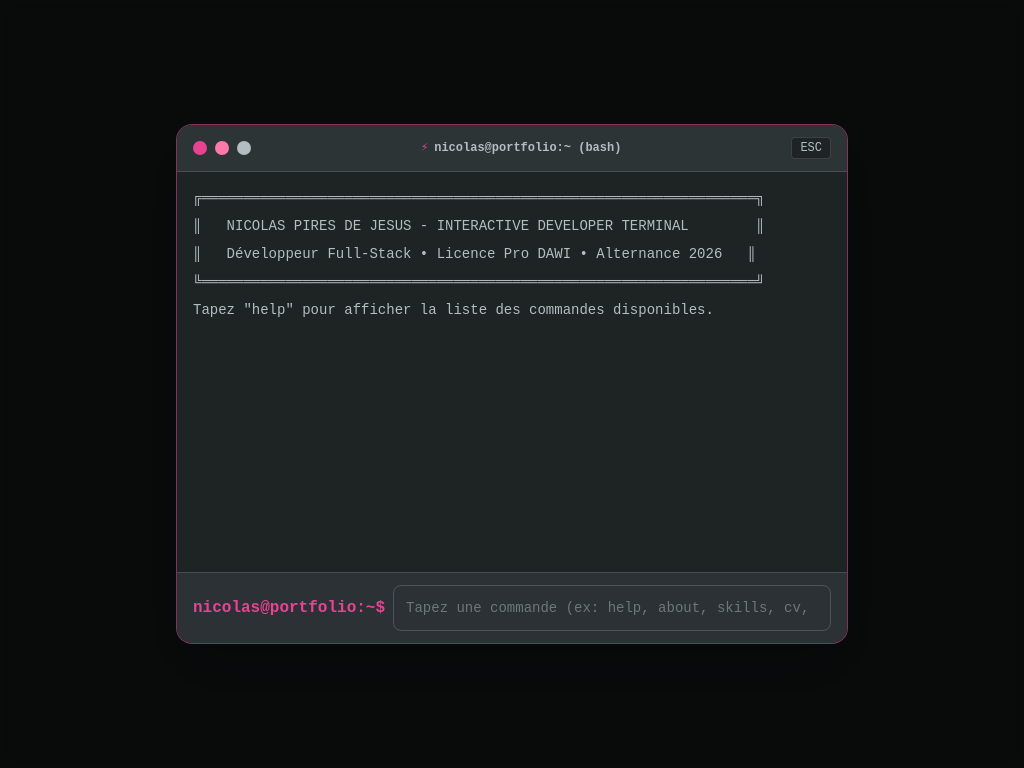
it: DeveloperTerminal executes help command
This screenshot has width=1024, height=768.
Type "help" into the field with placeholder "Tapez une commande (ex: help, about, skills, cv, lang)..." at (612, 608), box [393,585,831,631]
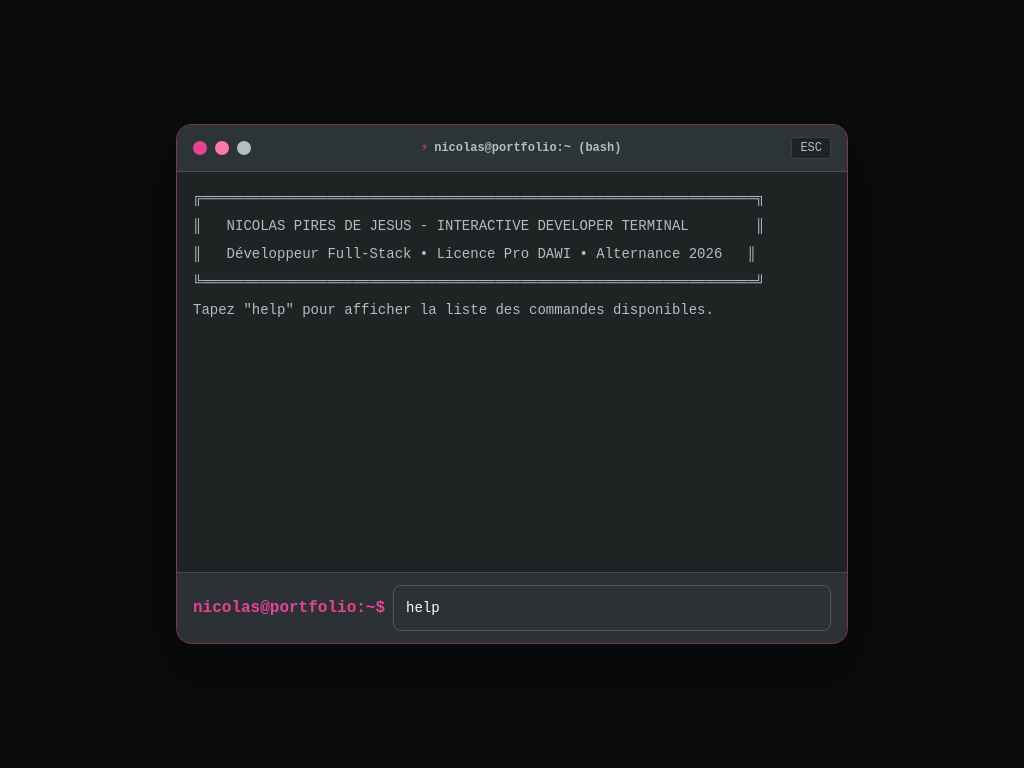
Press Enter in the field with placeholder "Tapez une commande (ex: help, about, skills, cv, lang)...", box [393,585,831,631]
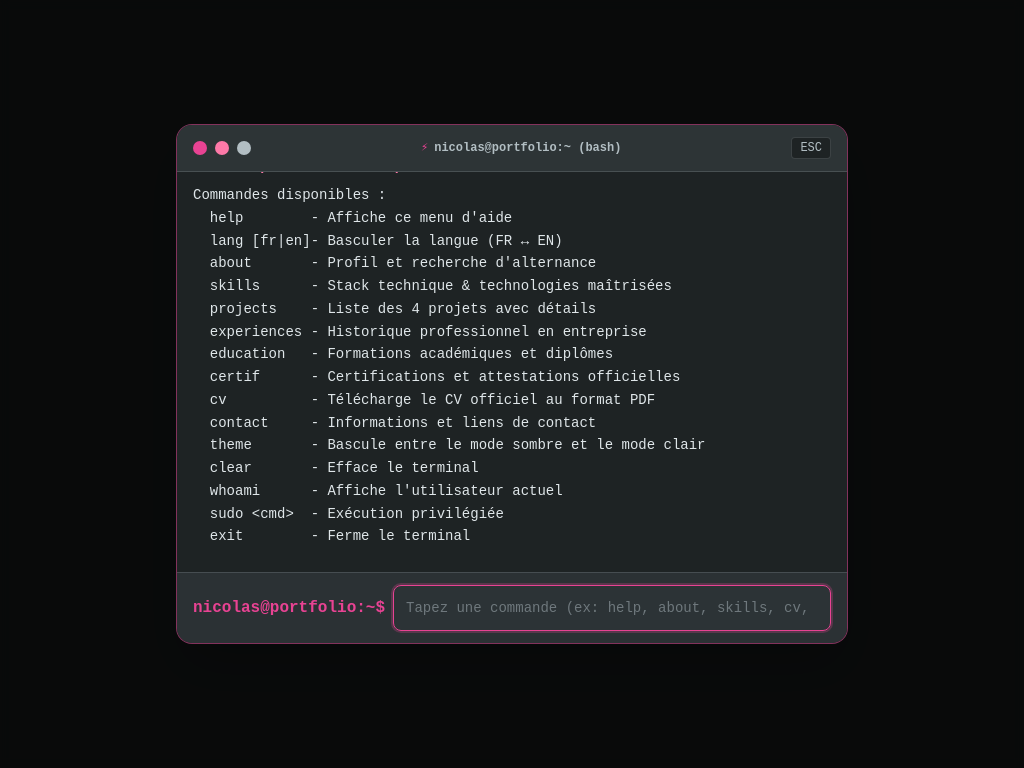
Expected: the text "Affiche ce menu d'aide" is shown, [193,187,706,544]
